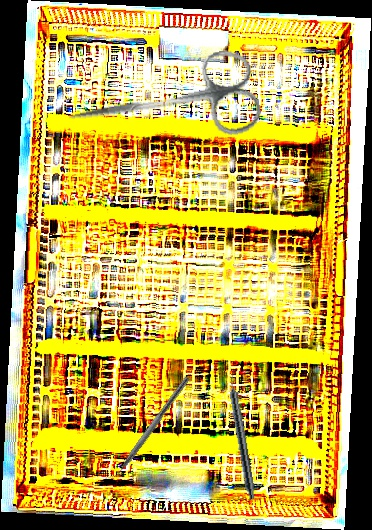Chopper: (103, 371, 190, 487)
Handpiece: (224, 369, 260, 501)
Iris Scissors: (62, 46, 264, 163)
